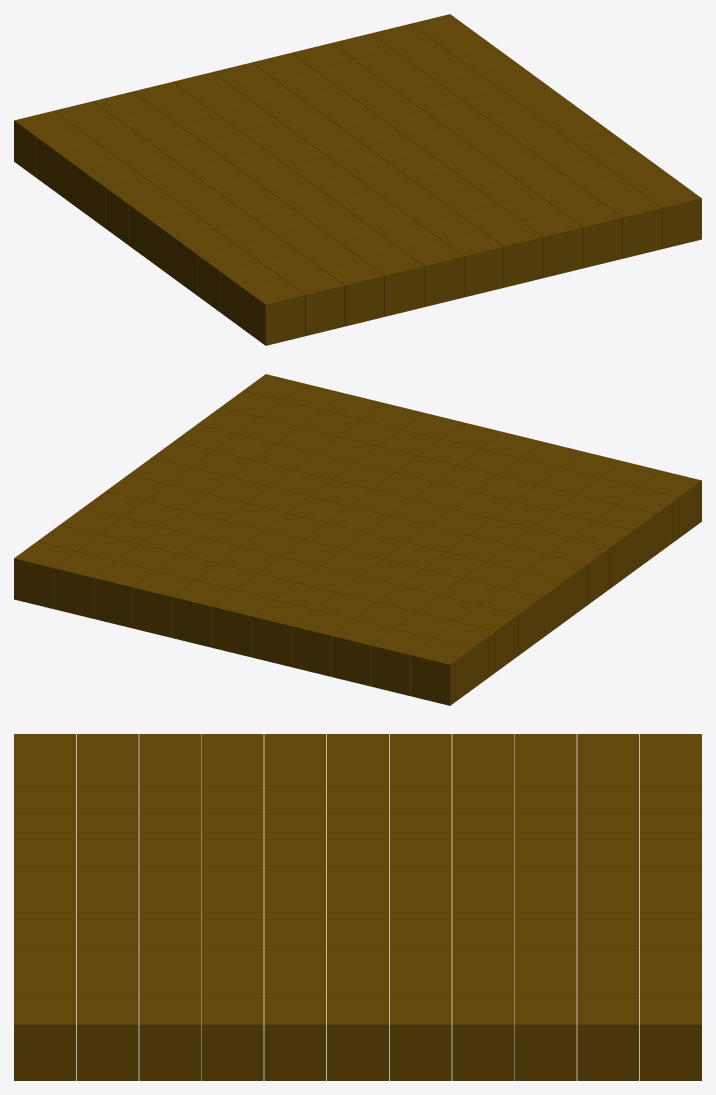
The model's file is placeholder_max_map.glb.
The picture shows the model from 3 angles, top to bottom: view 1: azimuth 30°, elevation 25°; view 2: azimuth 150°, elevation 25°; view 3: azimuth 270°, elevation 25°; orthographic projection. The views are drawn at different scales.
Visible parts, largest first — view 1: Cube.001, MapTilePlaceholder; view 2: Cube.001, MapTilePlaceholder; view 3: Cube.001, MapTilePlaceholder.
Part boxes in pixels (box(x1,y1,x2,y2)): Cube.001: box(14, 14, 701, 336); MapTilePlaceholder: box(243, 278, 304, 345); Cube.001: box(14, 374, 678, 705); MapTilePlaceholder: box(640, 471, 701, 537); Cube.001: box(14, 734, 701, 1080); MapTilePlaceholder: box(14, 734, 75, 760).
Bounding box in the file's own units: 10.88 × 0.98 × 10.88.
